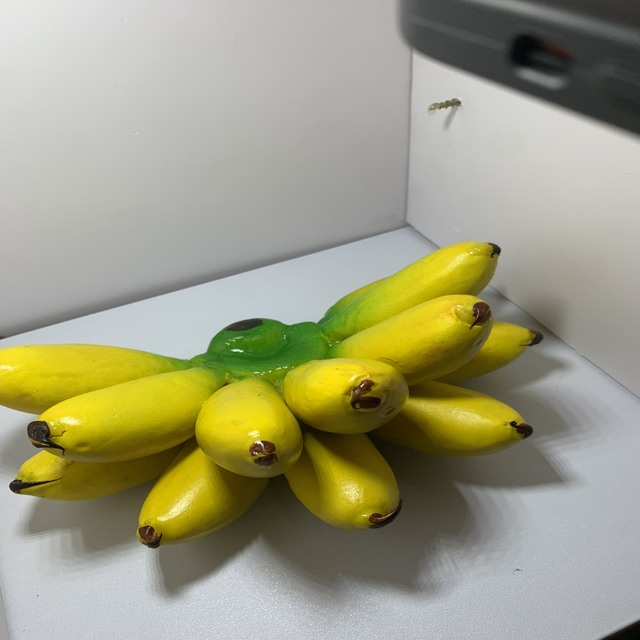Chuoi: (0, 232, 557, 556)
